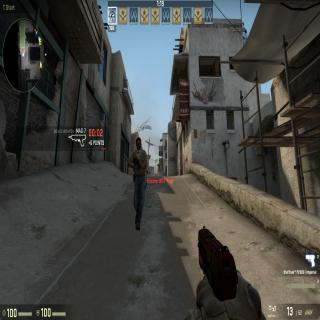T-Body: (130, 135, 146, 230)
T-Head: (134, 136, 144, 152)
